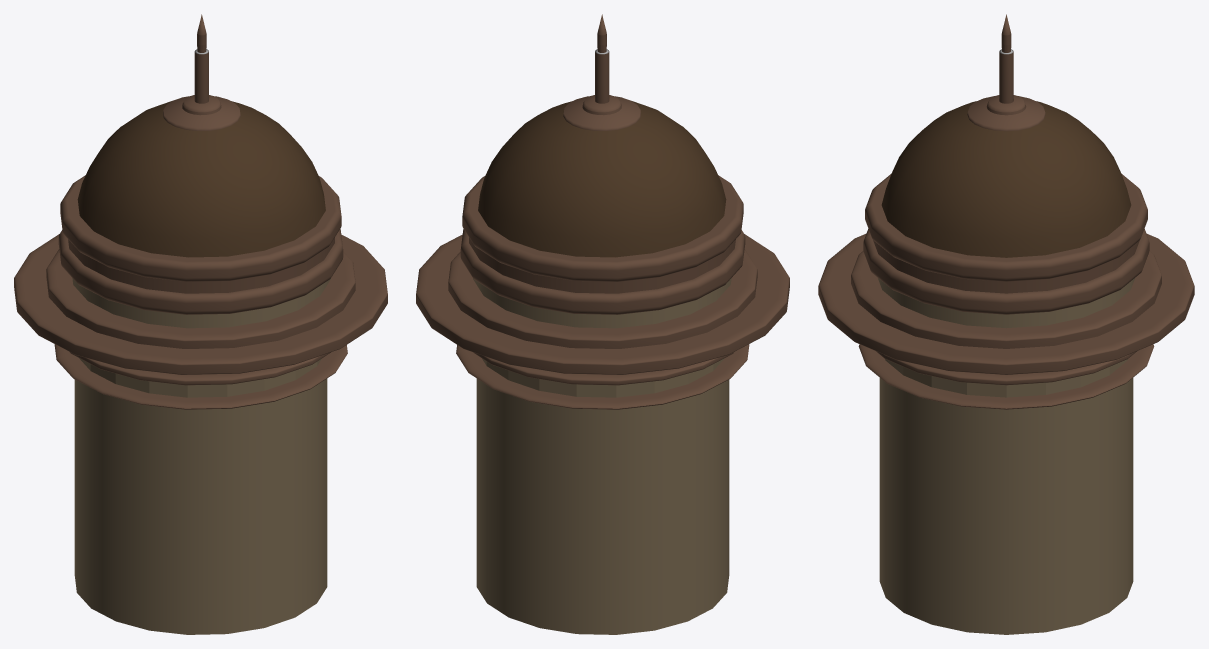
The model's file is ShortRBuilding.fbx.
The picture shows the model from 3 angles, left to right: view 1: azimuth 30°, elevation 25°; view 2: azimuth 150°, elevation 25°; view 3: azimuth 270°, elevation 25°; orthographic projection.
Visible parts, largest first — view 1: ShortSphere; view 2: ShortSphere; view 3: ShortSphere.
Boxes of the visible parts, <box> form: ShortSphere: <box>14,14,387,634</box>; ShortSphere: <box>416,14,789,634</box>; ShortSphere: <box>818,14,1194,634</box>.
Bounding box in the file's own units: 12.5 × 20.82 × 12.5.
